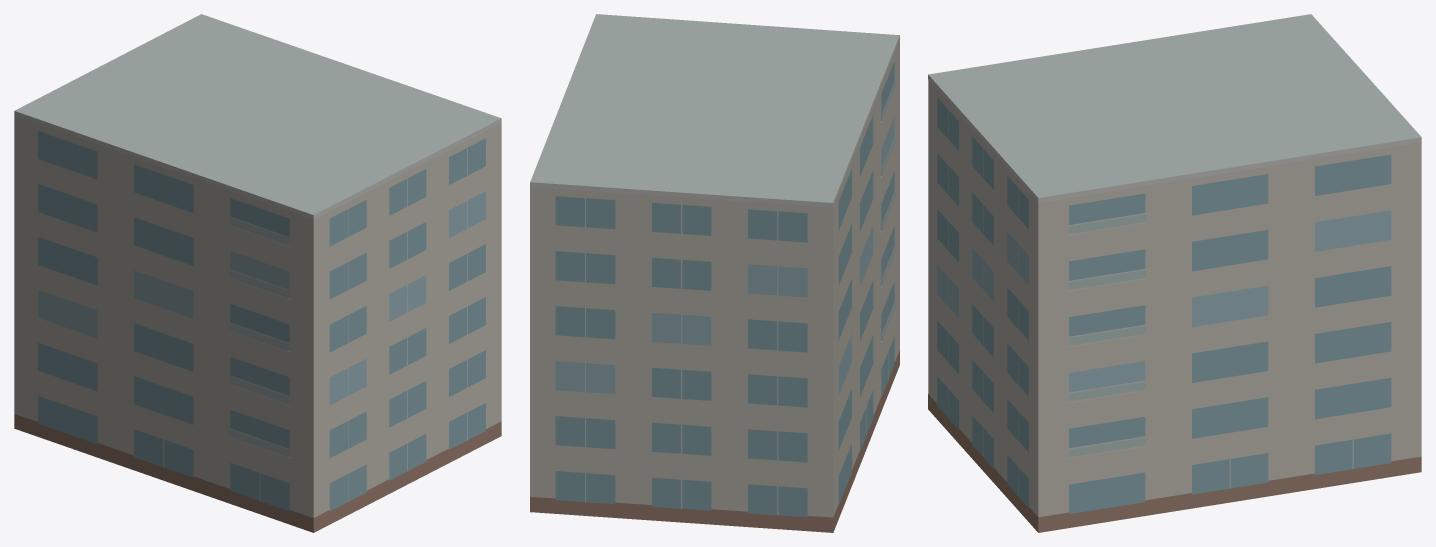
Rendered from survey-upis-32857794.glb.
3 views of the same model, side by side, from view 1: azimuth 30°, elevation 25°; view 2: azimuth 150°, elevation 25°; view 3: azimuth 270°, elevation 25° (orthographic). The views are drawn at different scales.
Visible parts, largest first — view 1: survey-upis-32857794.tmp; view 2: survey-upis-32857794.tmp; view 3: survey-upis-32857794.tmp.
Part boxes in pixels (x1,y1,x2,y2): survey-upis-32857794.tmp: [14, 14, 501, 532]; survey-upis-32857794.tmp: [530, 14, 899, 532]; survey-upis-32857794.tmp: [928, 14, 1421, 532].
Size of the model in its own units: 20.16 by 17.1 by 22.85.
